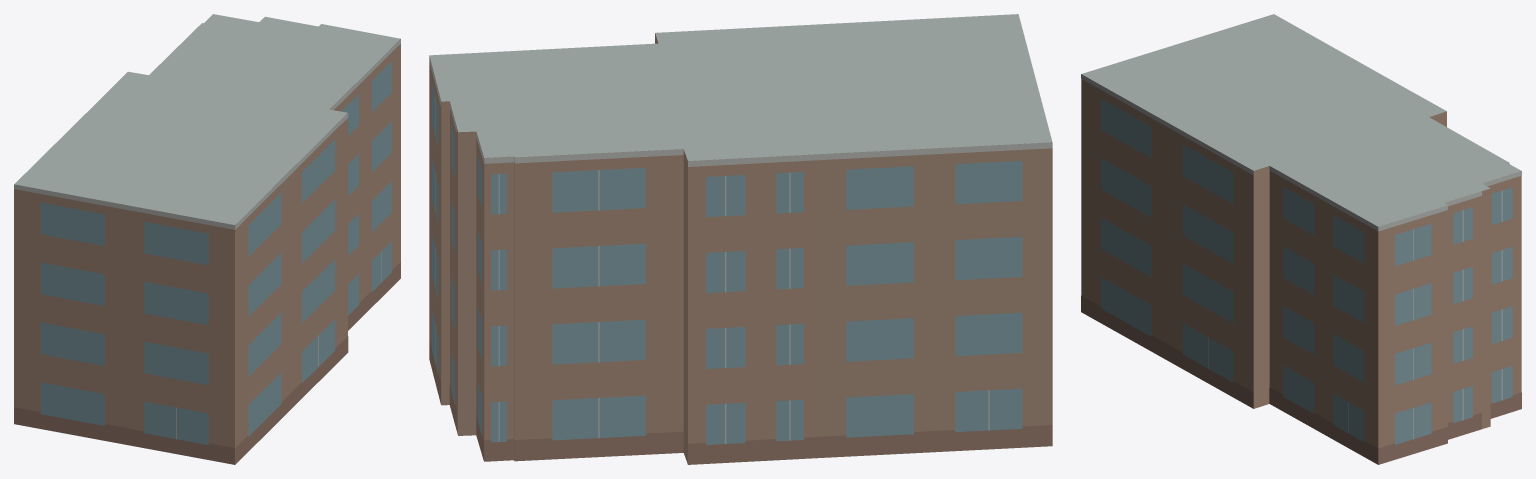
Rendered from survey-upis-32977976.glb.
3 views of the same model, side by side, from view 1: azimuth 30°, elevation 25°; view 2: azimuth 150°, elevation 25°; view 3: azimuth 270°, elevation 25° (orthographic). The views are drawn at different scales.
Visible parts, largest first — view 1: survey-upis-32977976.tmp; view 2: survey-upis-32977976.tmp; view 3: survey-upis-32977976.tmp.
Part boxes in pixels (x1,y1,x2,y2): survey-upis-32977976.tmp: [14, 14, 400, 464]; survey-upis-32977976.tmp: [429, 14, 1052, 464]; survey-upis-32977976.tmp: [1081, 14, 1521, 464].
Bounding box in the file's own units: 23.9 × 12.46 × 20.91.
